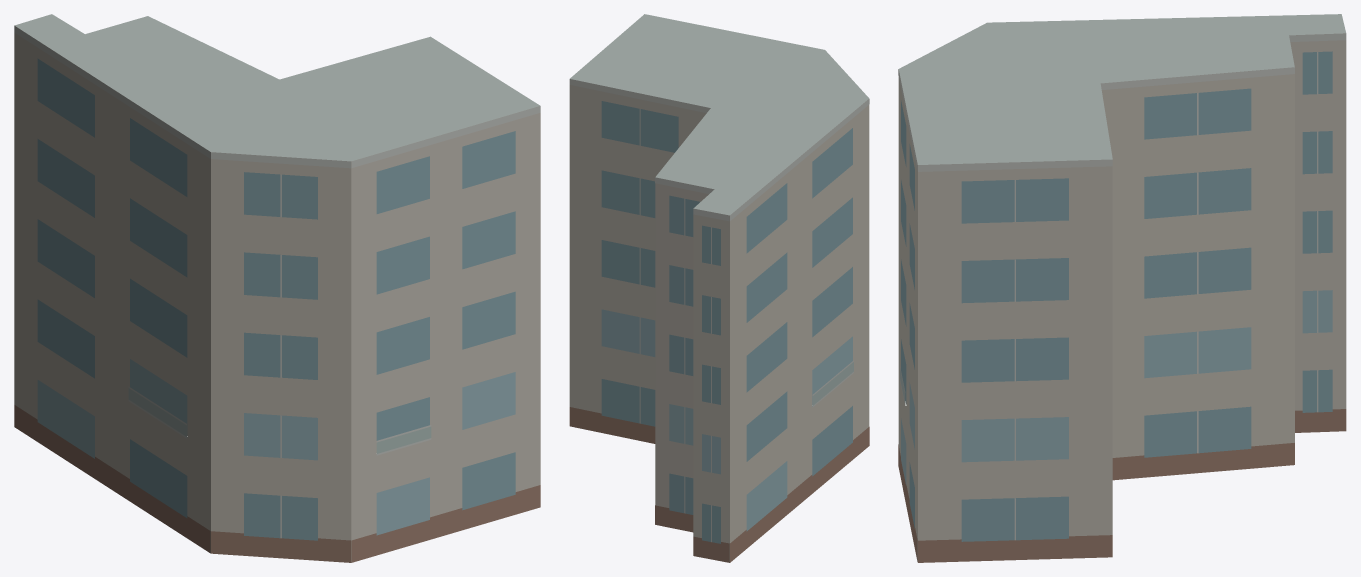
Rendered from survey-upis-32689379.glb.
3 views of the same model, side by side, from view 1: azimuth 30°, elevation 25°; view 2: azimuth 150°, elevation 25°; view 3: azimuth 270°, elevation 25° (orthographic). The views are drawn at different scales.
Visible parts, largest first — view 1: survey-upis-32689379.tmp; view 2: survey-upis-32689379.tmp; view 3: survey-upis-32689379.tmp.
Part boxes in pixels (left/top/right/bottom): survey-upis-32689379.tmp: left=14, top=14, right=540, bottom=562; survey-upis-32689379.tmp: left=569, top=14, right=869, bottom=562; survey-upis-32689379.tmp: left=898, top=14, right=1346, bottom=562.
Size of the model in its own units: 11.58 by 14.2 by 14.49.
